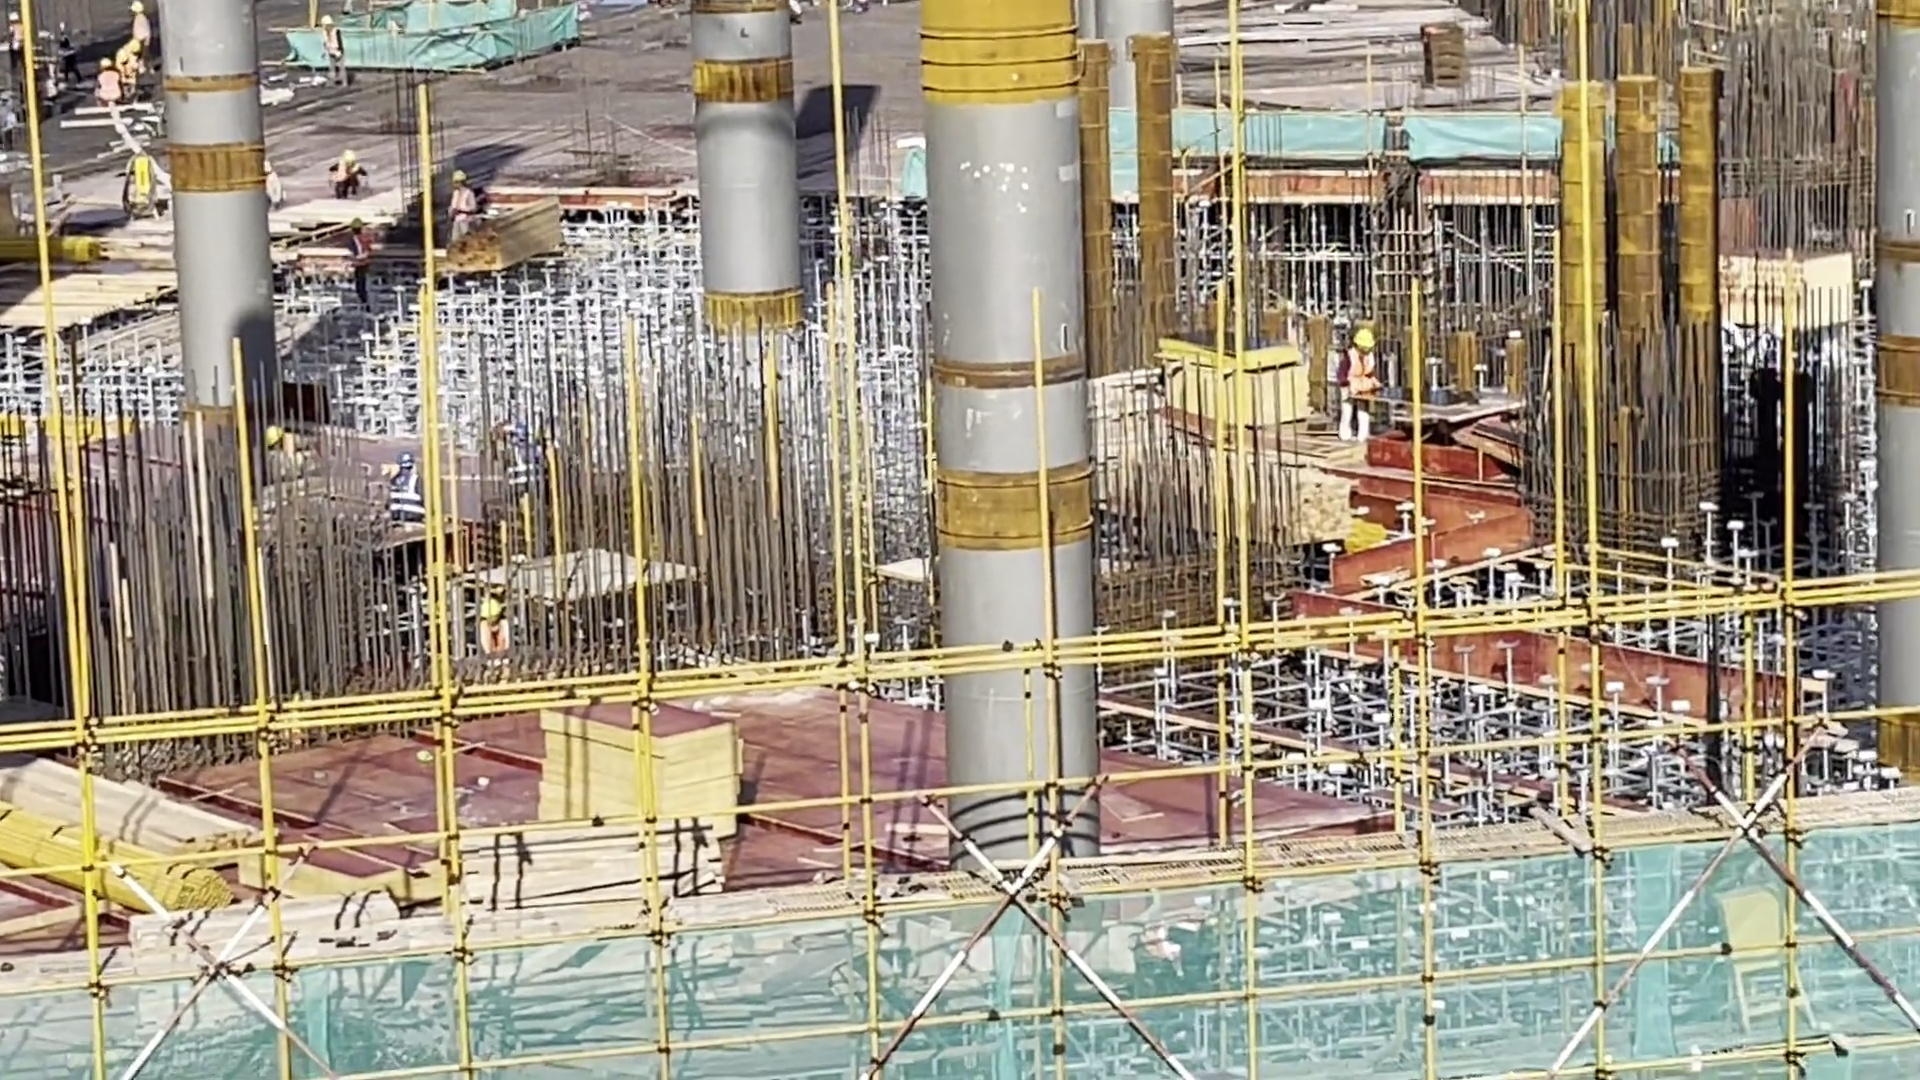helmet: (1338, 317, 1380, 353), (469, 593, 514, 625), (336, 146, 367, 168), (396, 448, 419, 475), (265, 423, 289, 443), (131, 1, 156, 17), (92, 53, 115, 70), (450, 170, 470, 187), (349, 215, 365, 230), (321, 12, 335, 24)
person: (1331, 318, 1393, 425), (344, 217, 385, 309), (384, 461, 431, 522), (471, 593, 517, 649), (322, 149, 371, 201), (123, 1, 164, 62), (314, 14, 351, 81), (447, 170, 479, 237), (91, 55, 120, 106)
vest: (1343, 352, 1378, 403), (390, 471, 418, 509), (347, 225, 371, 260), (482, 622, 511, 646), (455, 187, 478, 217)
